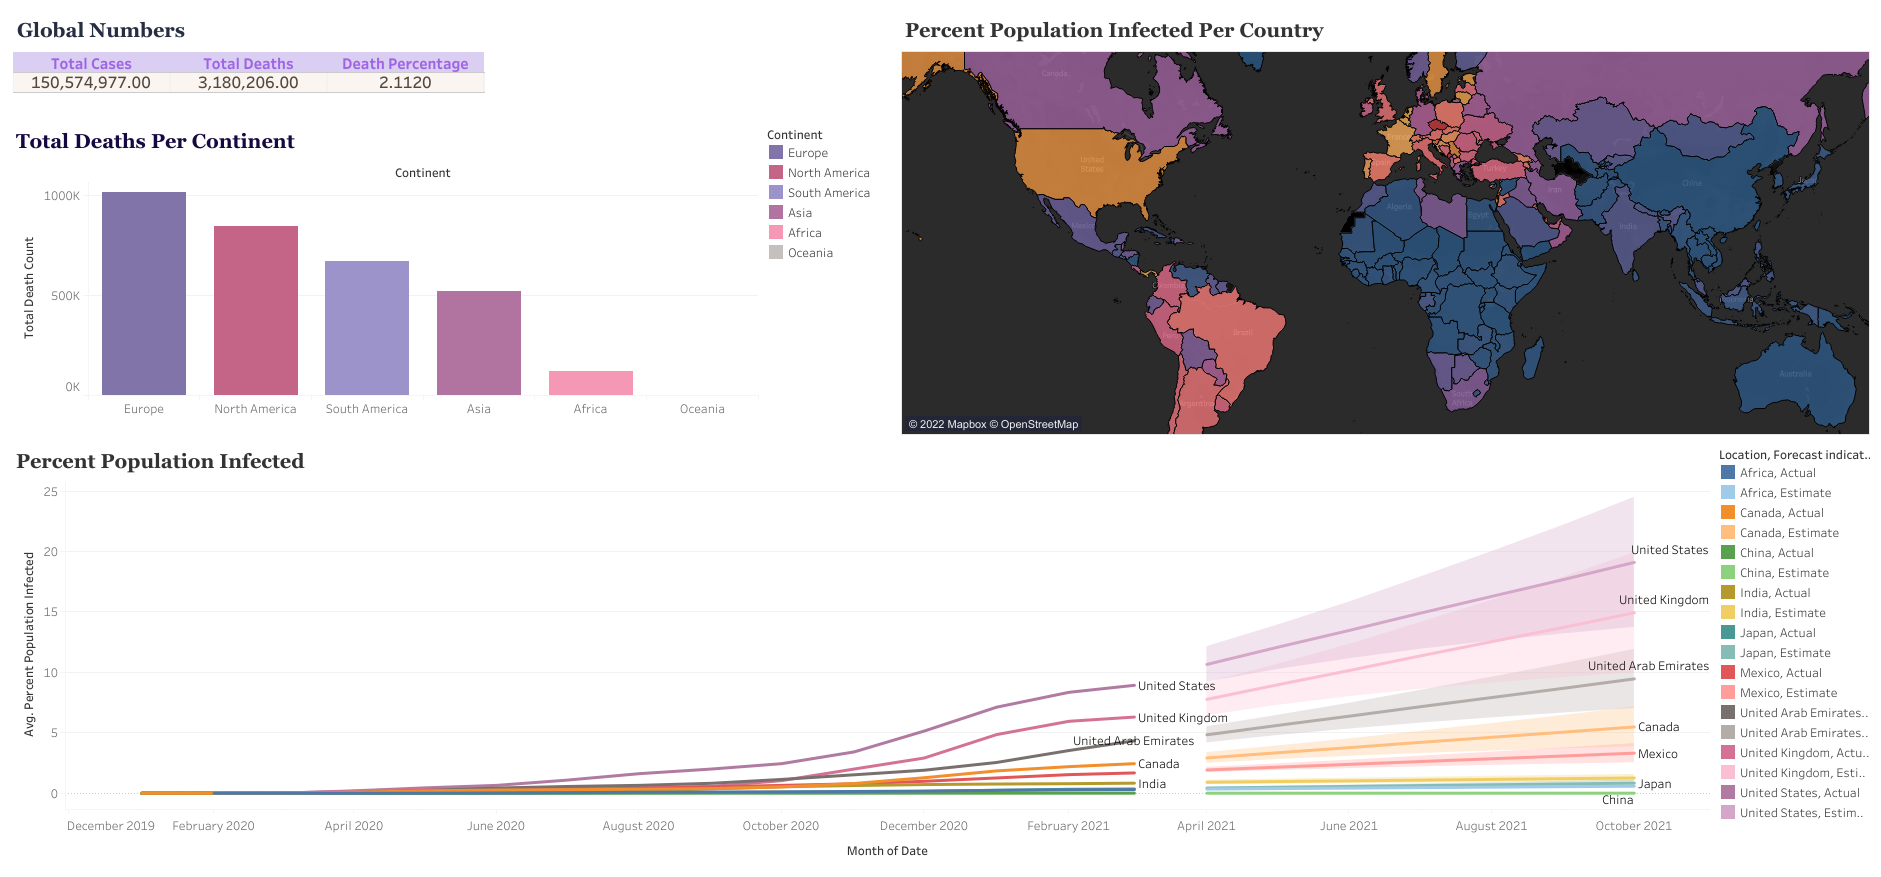

Layout of this report page (visuals, bound fields, positions):
{"tool":"tableau","page":{"name":"Dashboard 1","canvas":[1000,1000],"units":"permille","ordinal":0},"visuals":[{"type":"worksheet","title":"Sheet 1","mark":"Automatic","box":[4.8,8.1,472.1,126.5]},{"type":"worksheet","title":"Sheet 3","mark":"Automatic","box":[476.8,8.1,518.4,491.9]},{"type":"worksheet","title":"Sheet 2","mark":"Automatic","rows":["TotalDeathCount"],"cols":["location"],"box":[4.8,134.6,400.2,365.4]},{"type":"legend","title":"Sheet 2","param":"[federated.0stdtzd1gkogcn17mc3va0mulvdp].[none:location:nk]","box":[405,134.6,71.9,365.4]},{"type":"worksheet","title":"Sheet 4","mark":"Automatic","rows":["PercentPopulationInfected"],"cols":["date"],"box":[4.8,500,895.5,491.9]},{"type":"legend","title":"Sheet 4","param":"[federated.1xqsug405i2gq01gg7xek0d16rmn].[none:Location:nk]\n[federated.1xqsug405","box":[900.2,500,95,470.7]}]}

Visuals, with their boxes on the dashboard's canvas, which has no fixed pixel size, in thousandths of its width and height (x1, y1, x2, y2). These are canvas units, not pixel positions in the 1881x877 screenshot, which may show the page scaled, cropped or inside an application window:
"Sheet 1" worksheet: <region>5, 8, 477, 135</region>
"Sheet 3" worksheet: <region>477, 8, 995, 500</region>
"Sheet 2" worksheet: <region>5, 135, 405, 500</region>
"Sheet 2" legend: <region>405, 135, 477, 500</region>
"Sheet 4" worksheet: <region>5, 500, 900, 992</region>
"Sheet 4" legend: <region>900, 500, 995, 971</region>
